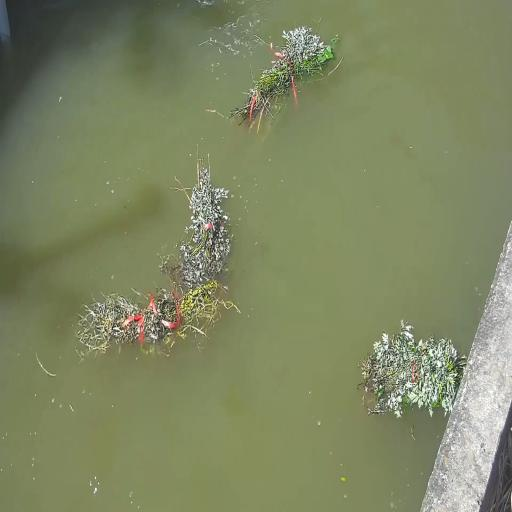twig: (228, 22, 336, 133), (78, 278, 230, 354), (359, 318, 466, 420), (174, 152, 232, 288)
